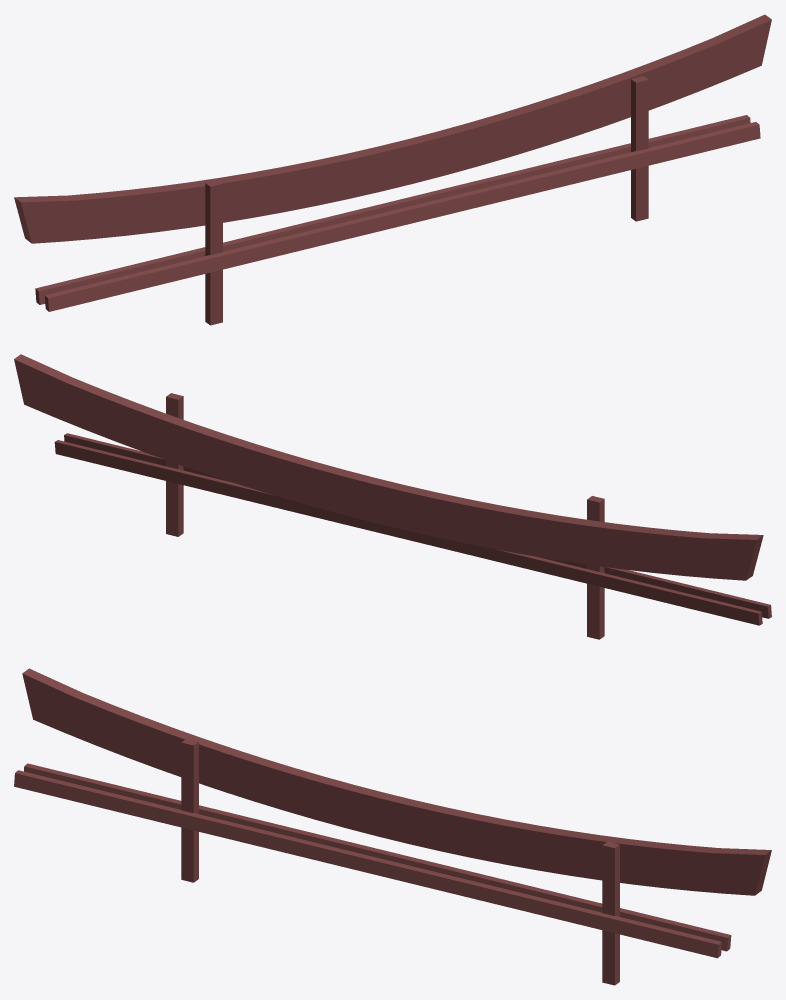
Rendered from SM_roofattachment_traditional.fbx.
3 views of the same model, one above another, from view 1: azimuth 30°, elevation 25°; view 2: azimuth 150°, elevation 25°; view 3: azimuth 330°, elevation 25° (orthographic).
Parts seen in each view (by area): view 1: Object1284834; view 2: Object1284834; view 3: Object1284834.
Boxes of the visible parts, x1,y1,x2,y2 form: Object1284834: (14,14,771,325); Object1284834: (14,354,771,639); Object1284834: (14,668,771,985).
Bounding box in the file's own units: 280 × 55.43 × 16.3.
